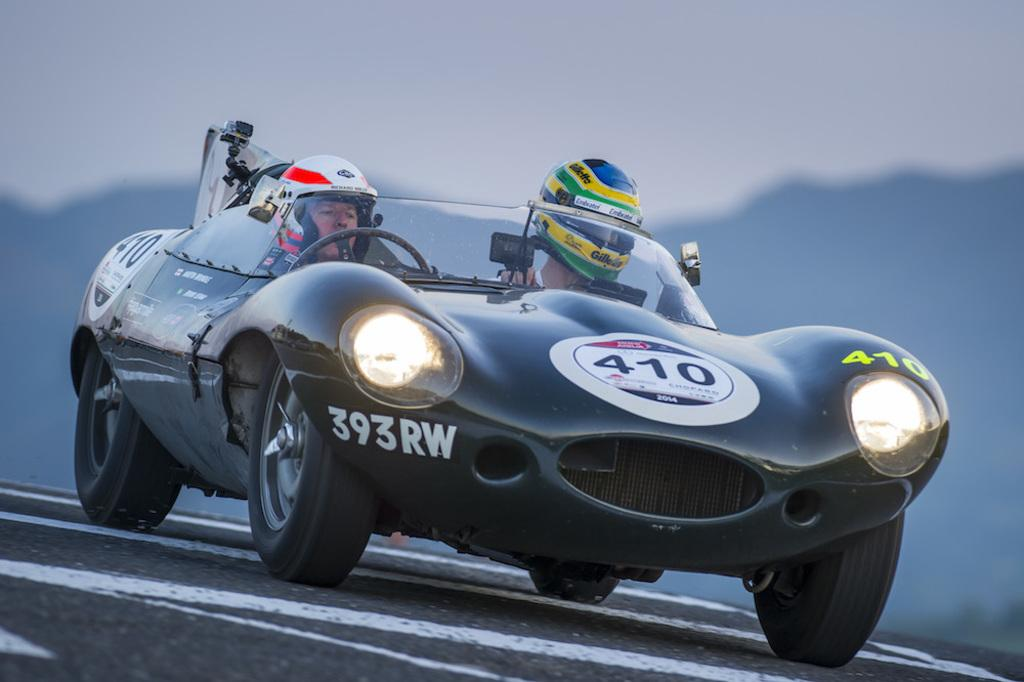helmet: (535, 158, 643, 284), (270, 154, 378, 259)
